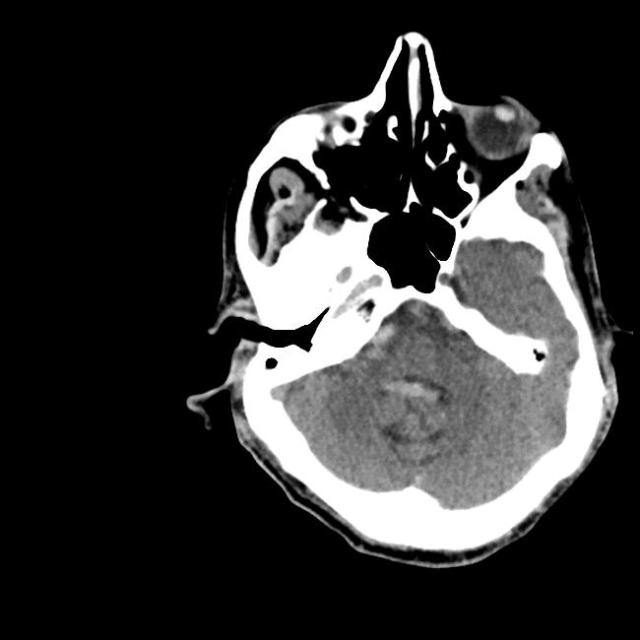lesion: (187, 31, 623, 569)
